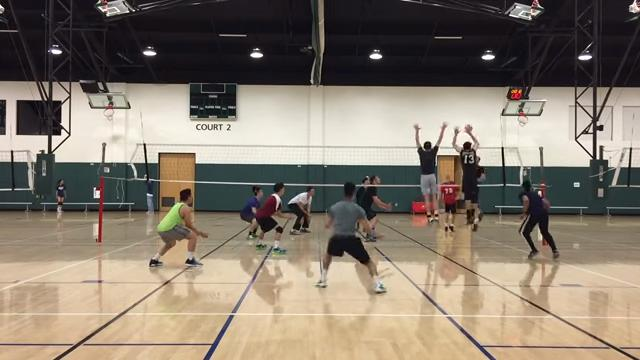attacco: (472, 154, 488, 235)
muro: (409, 118, 446, 223), (450, 120, 485, 226)
